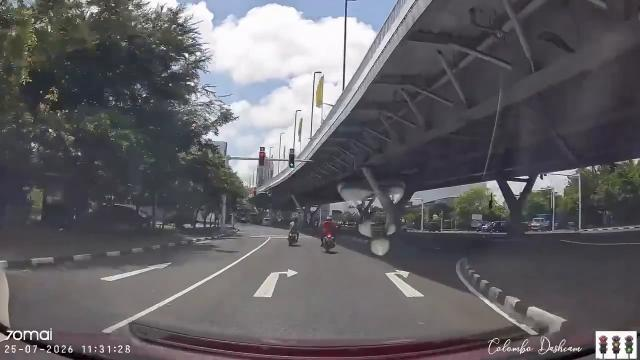traffic light red: (256, 147, 270, 174)
